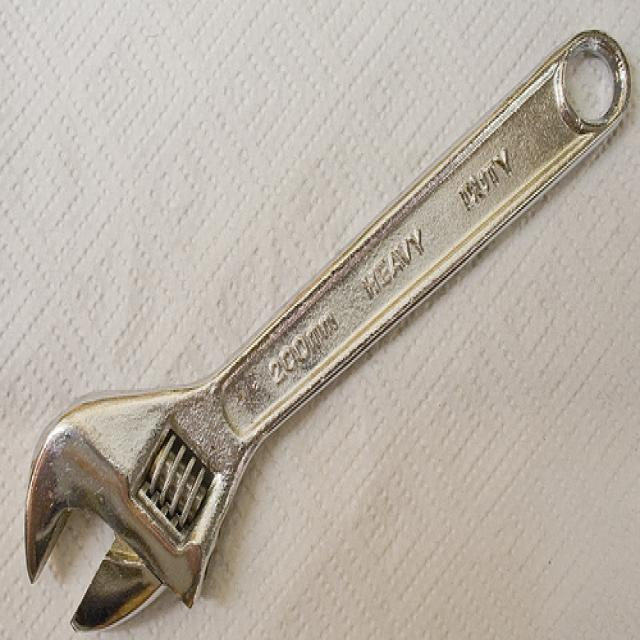wrench: (0, 0, 638, 628)
